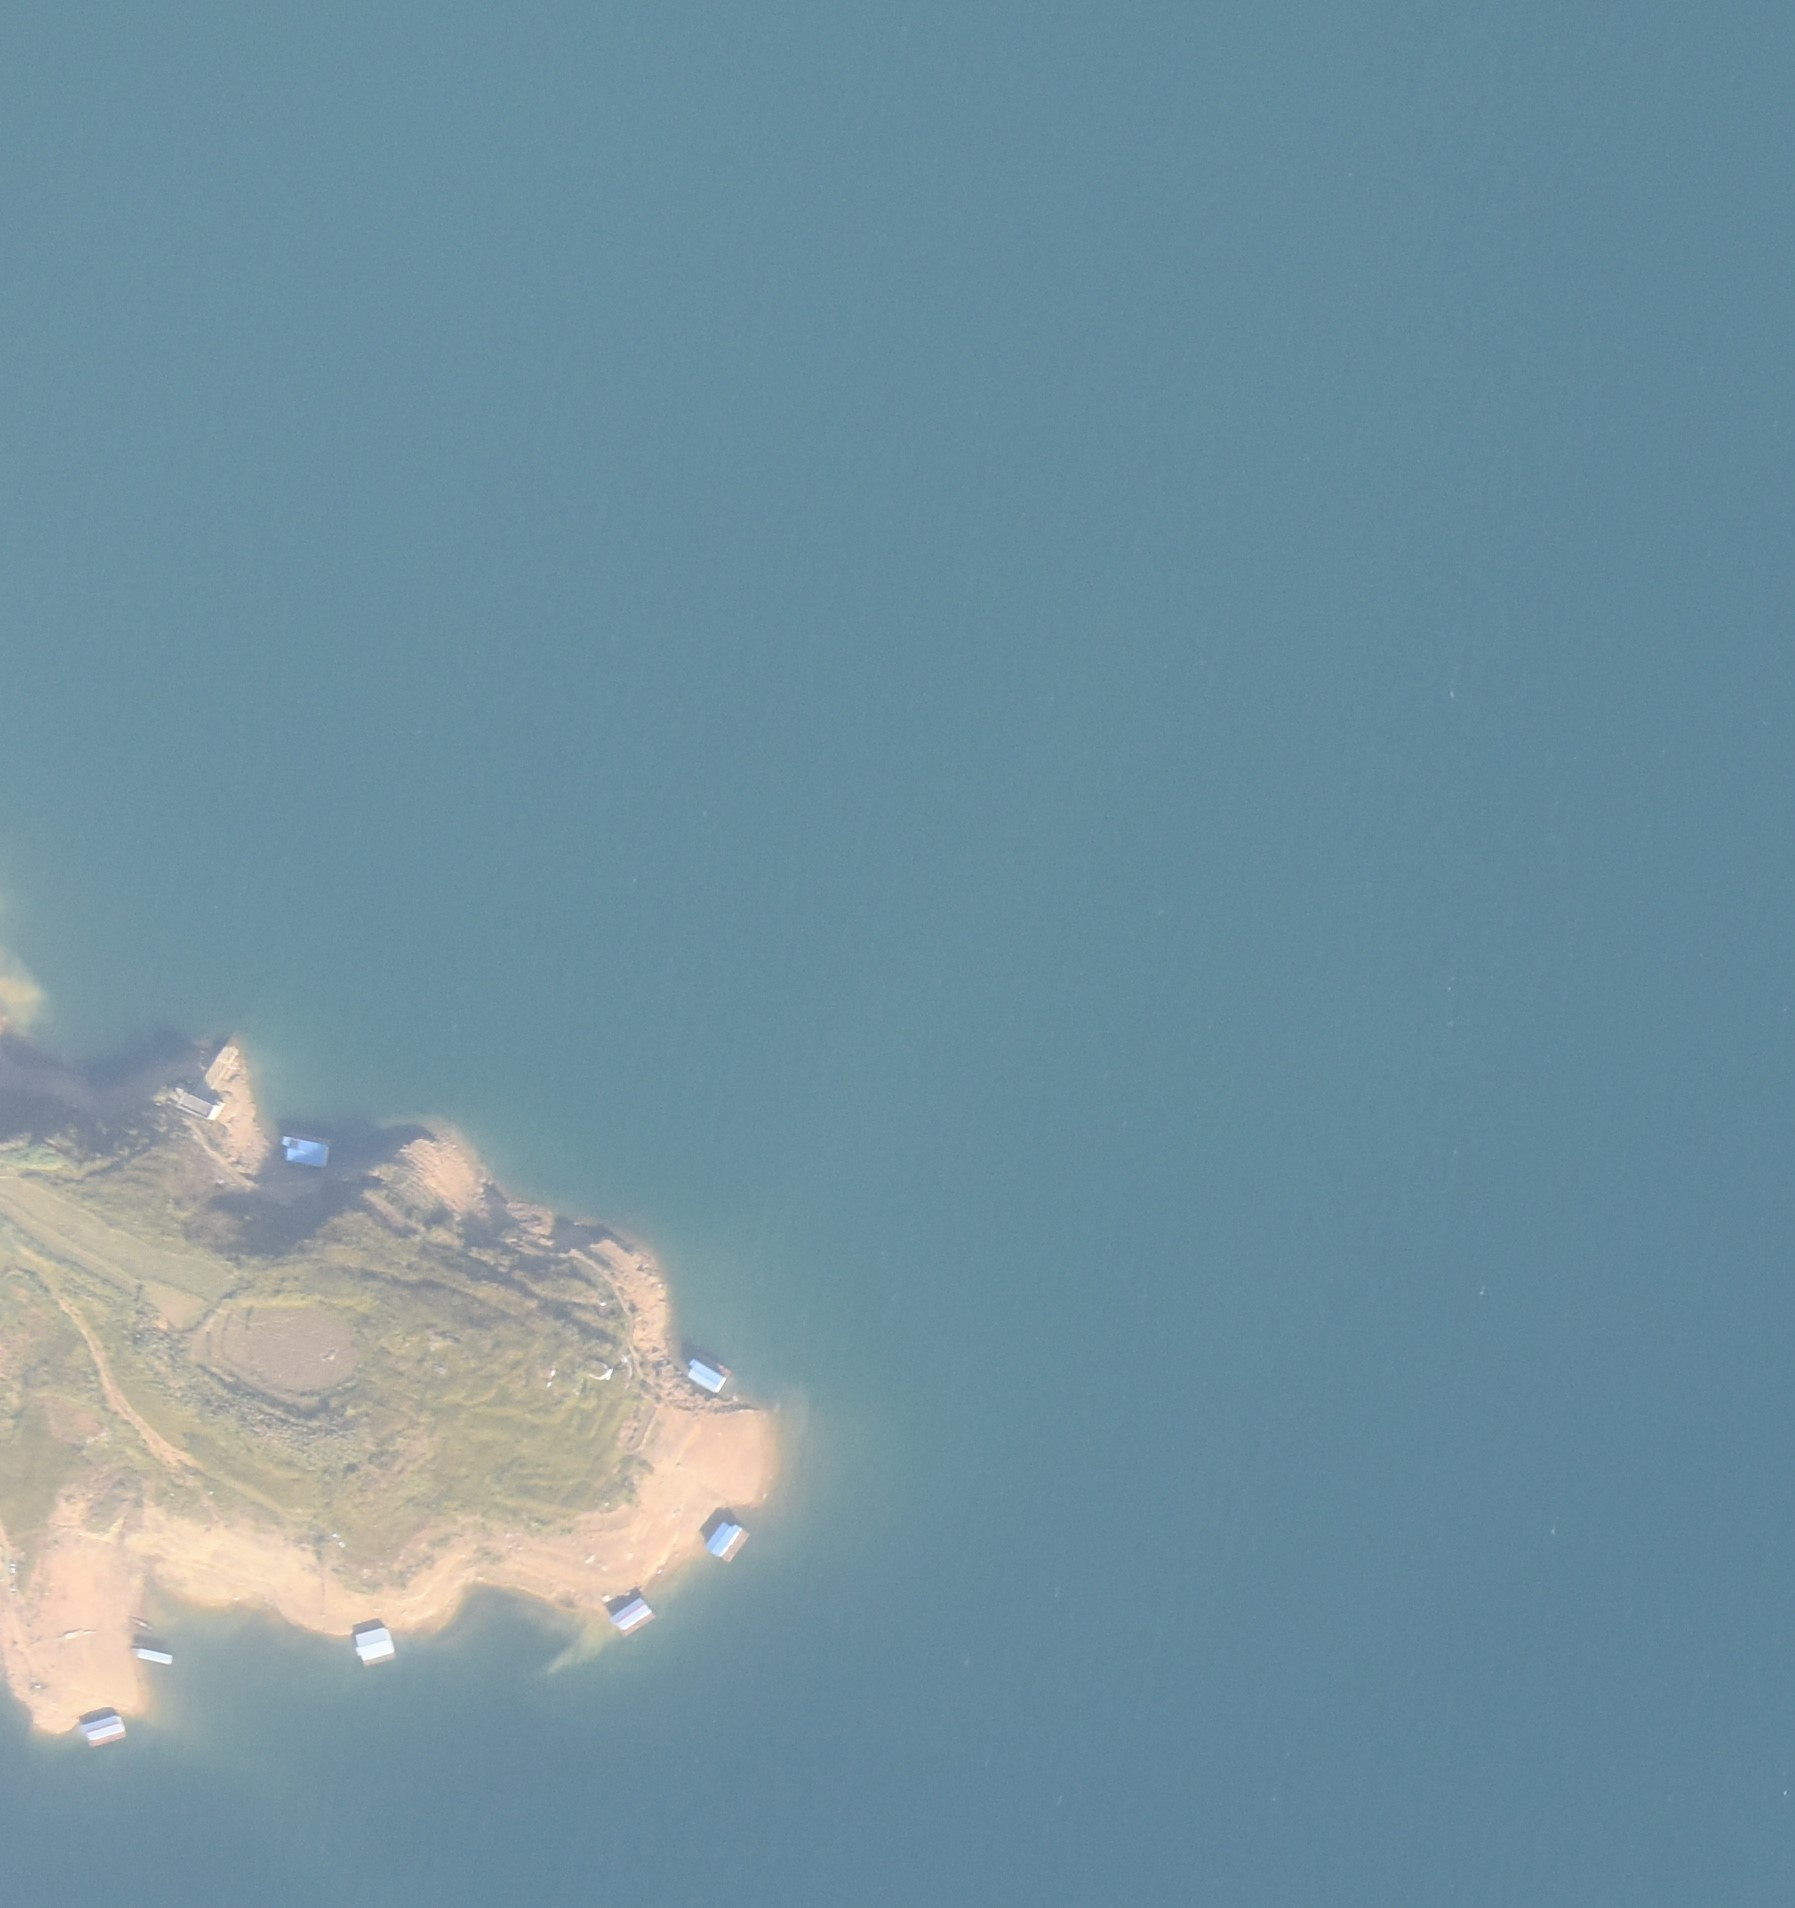prefabricated-house: (81, 1711, 127, 1749), (611, 1598, 653, 1636), (353, 1626, 396, 1663), (705, 1522, 747, 1559), (283, 1137, 331, 1169), (687, 1358, 727, 1393)
ship: (127, 1647, 172, 1665), (127, 1613, 154, 1635)
